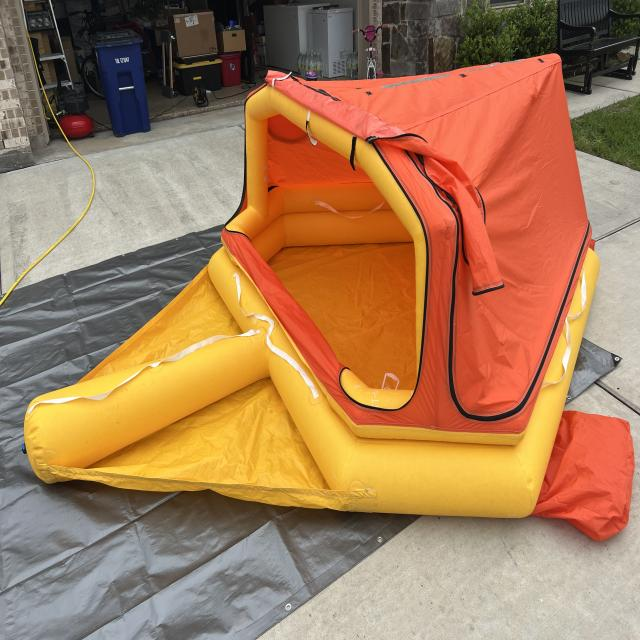Multi-person_life_raft: (24, 51, 634, 545)
